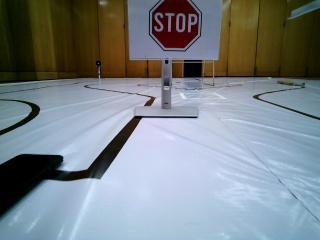stop: (127, 1, 218, 62)
